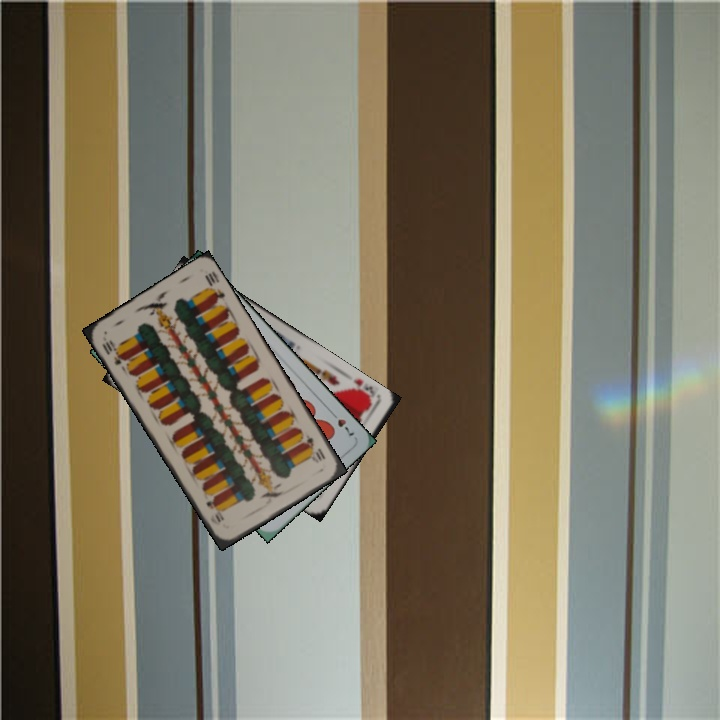E10: (98, 336, 128, 368), (300, 431, 328, 464)
H7: (326, 406, 357, 439)
HK: (344, 374, 383, 407)
